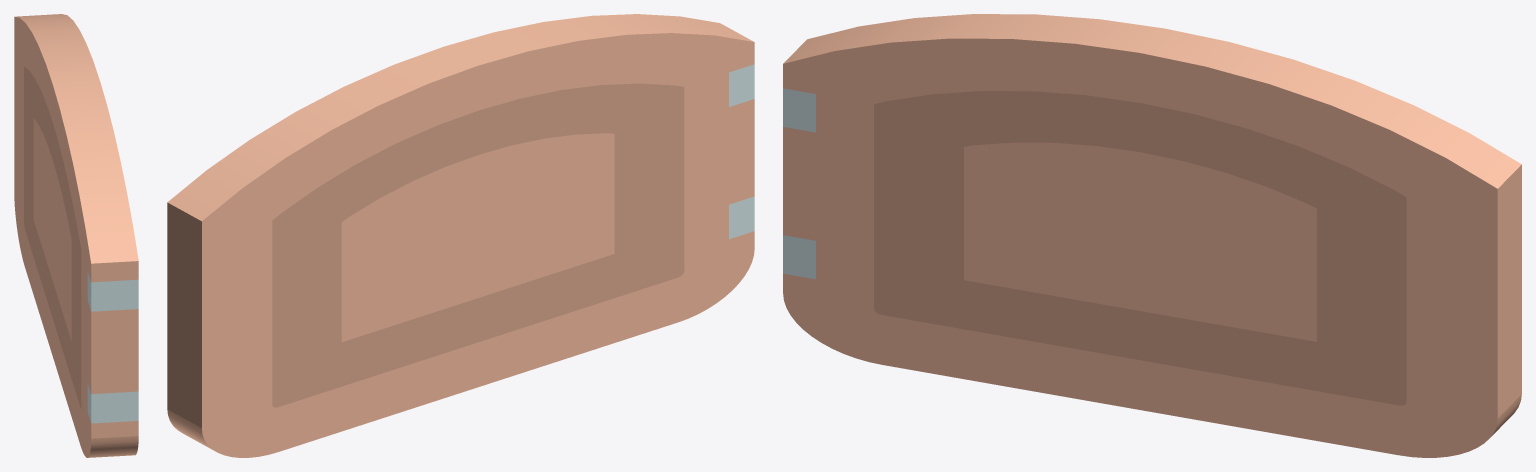
The model's file is crafted-gate-leaf-3.glb.
3 views of the same model, side by side, from view 1: azimuth 30°, elevation 25°; view 2: azimuth 150°, elevation 25°; view 3: azimuth 270°, elevation 25° (orthographic). The views are drawn at different scales.
Parts seen in each view (by area): view 1: leaf-0, leaf-2, leaf-1; view 2: leaf-0, leaf-2, leaf-1; view 3: leaf-0, leaf-2, leaf-1.
Part boxes in pixels (x1,y1,x2,y2): leaf-0: (14, 14, 138, 457); leaf-2: (24, 67, 81, 408); leaf-1: (87, 272, 138, 423); leaf-0: (167, 14, 754, 457); leaf-2: (272, 83, 684, 407); leaf-1: (729, 64, 754, 239); leaf-0: (783, 14, 1521, 457); leaf-2: (874, 91, 1406, 405); leaf-1: (783, 88, 815, 279).
Size of the model in its own units: 0.3938 by 0.438 by 0.8213.
